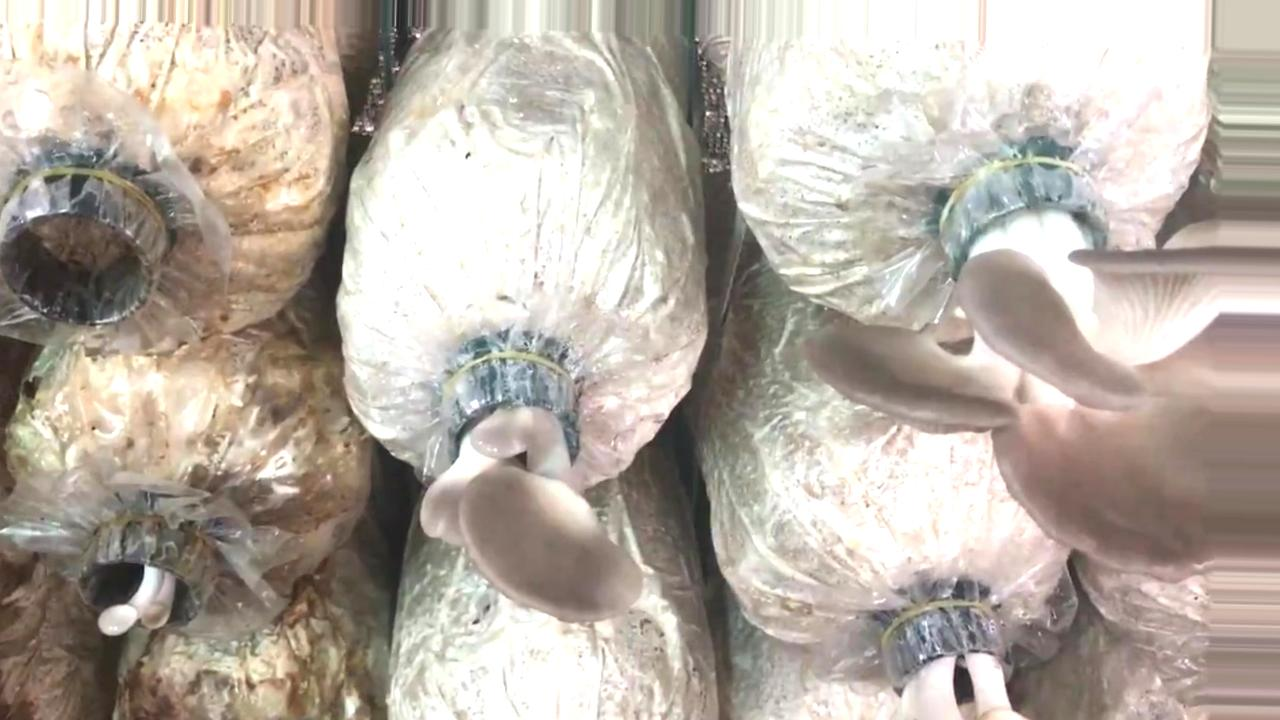nam: (800, 166, 1280, 581), (418, 356, 643, 624), (78, 524, 200, 638)
